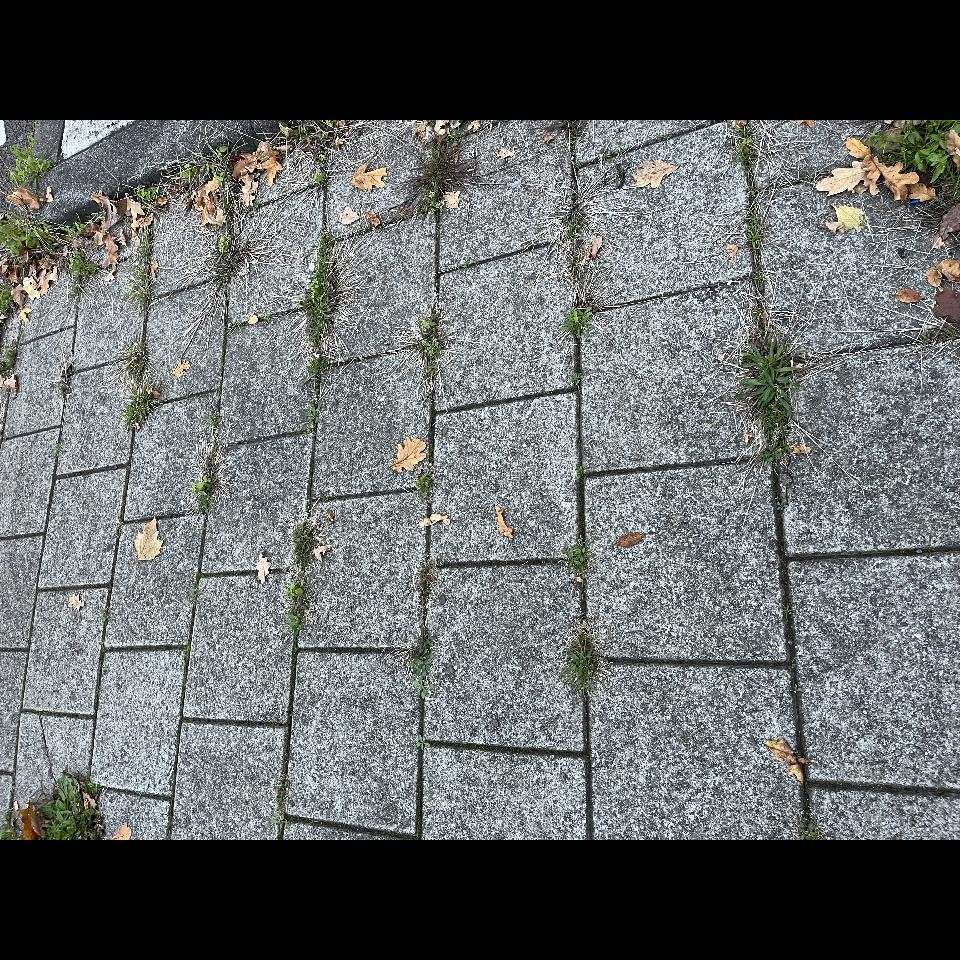weed: (470, 418, 604, 493), (378, 855, 500, 921), (622, 512, 700, 600), (0, 120, 66, 222), (638, 280, 705, 355), (204, 406, 321, 438), (445, 520, 528, 565), (149, 680, 214, 727), (410, 241, 458, 280), (327, 310, 391, 339), (456, 231, 503, 268), (502, 680, 539, 715), (554, 188, 590, 220), (263, 683, 296, 711), (455, 689, 468, 704)
